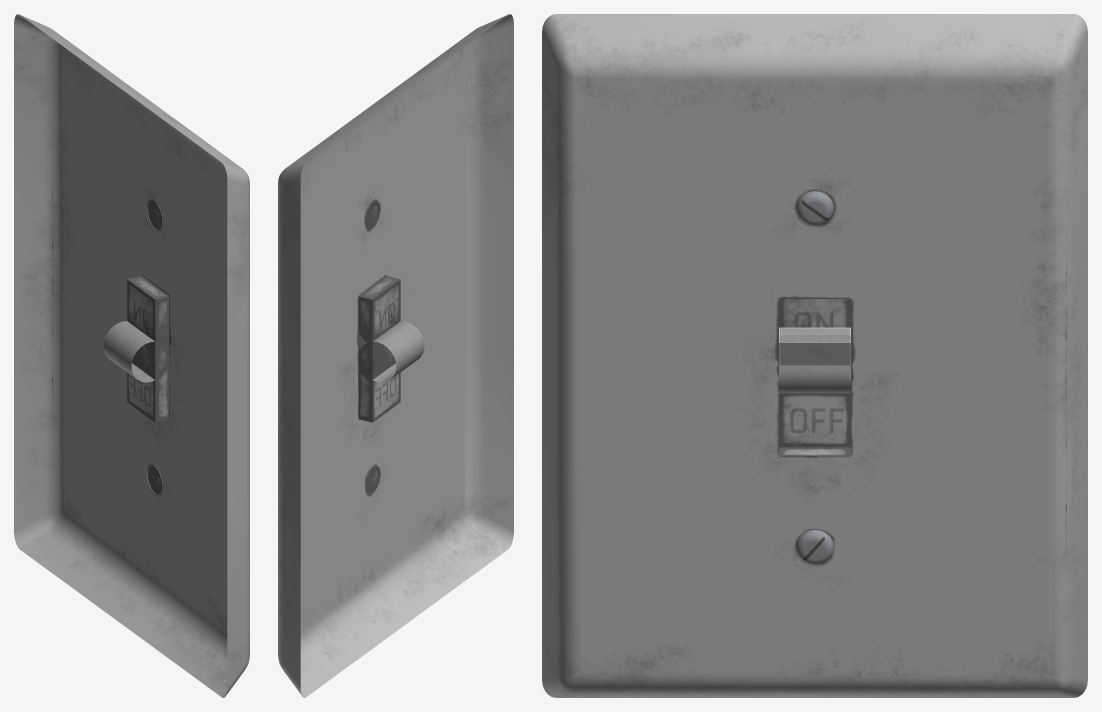
Rendered from LightSwitchV2Textured.fbx.
The picture shows the model from 3 angles, left to right: view 1: azimuth 30°, elevation 25°; view 2: azimuth 150°, elevation 25°; view 3: azimuth 270°, elevation 25°; orthographic projection. The views are drawn at different scales.
Visible parts, largest first — view 1: Plane, Plane.001; view 2: Plane, Plane.001; view 3: Plane, Plane.001.
Part boxes in pixels (<box>): Plane: <box>14,14,249,697</box>; Plane.001: <box>103,321,154,382</box>; Plane: <box>278,14,513,697</box>; Plane.001: <box>358,321,424,382</box>; Plane: <box>542,14,1087,697</box>; Plane.001: <box>779,327,850,393</box>.
Bounding box in the file's own units: 3.14 × 20.64 × 14.93.
3 materials, 3 textured.
